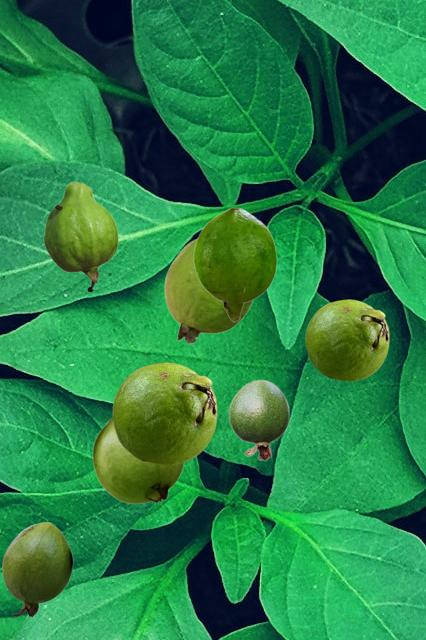guava: (112, 362, 216, 464), (193, 207, 276, 321), (164, 238, 253, 343), (43, 181, 117, 291), (92, 418, 183, 503), (305, 299, 388, 380), (2, 522, 72, 616), (228, 379, 289, 460)
